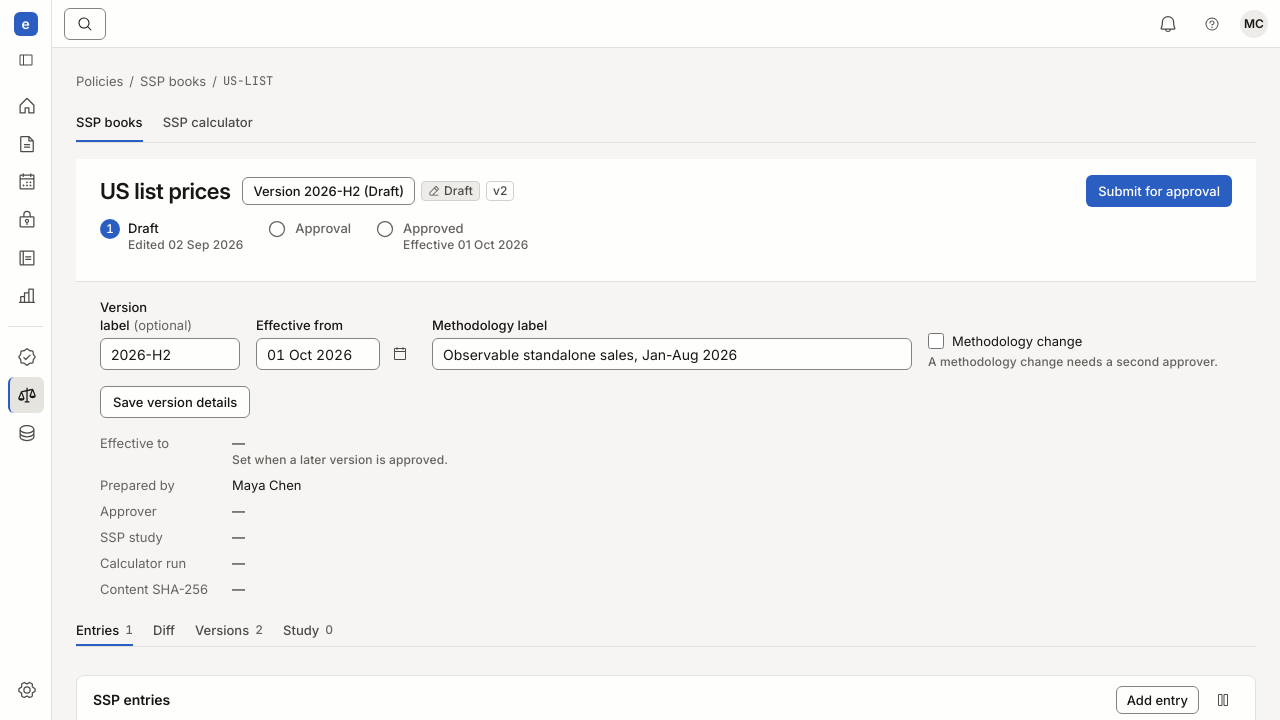
Test: SF-13:ssp-book-version series basis and quantity unit (D-97 (3)/(3a)) › a series product has no default basis: Save entry refuses at the Basis field and posts nothing
The image size is (1280, 720).
Click the button "Add entry" at {"x": 1157, "y": 700}, box [1116,686,1199,714]
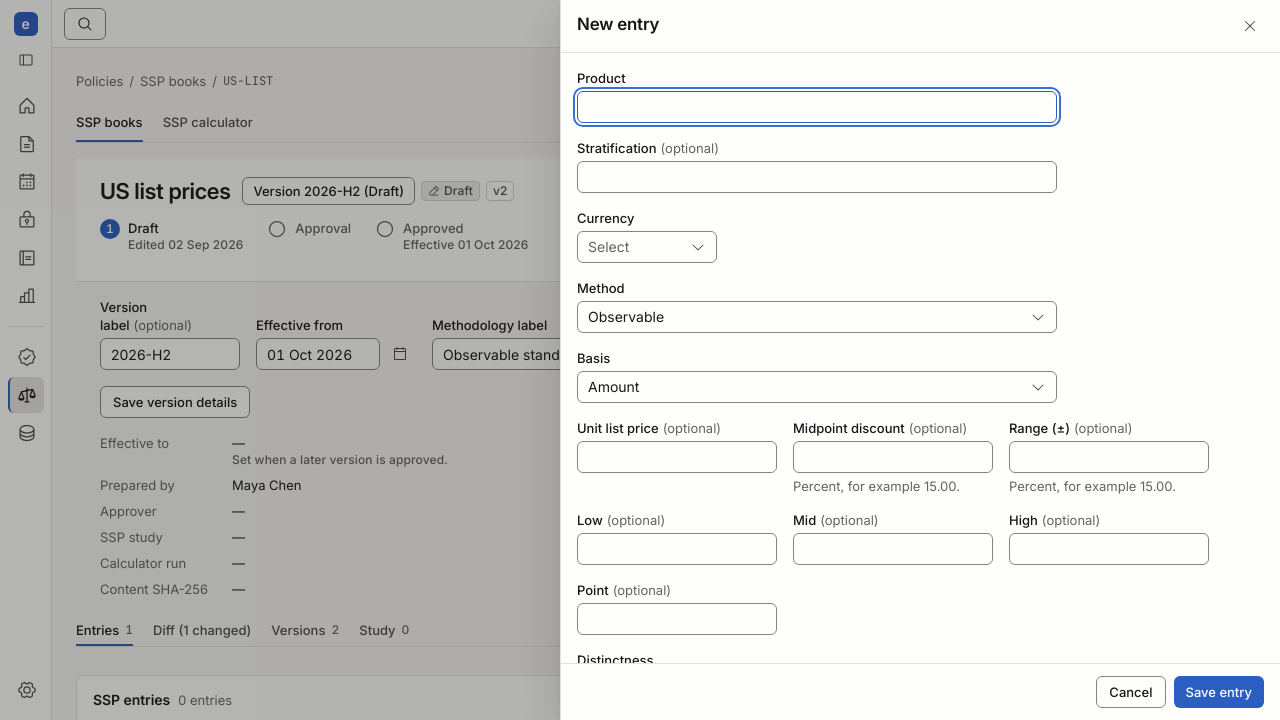
Type "AVM-SERIES-12" into the dropdown labelled "Product" at {"x": 817, "y": 107}, box [577,91,1057,123]
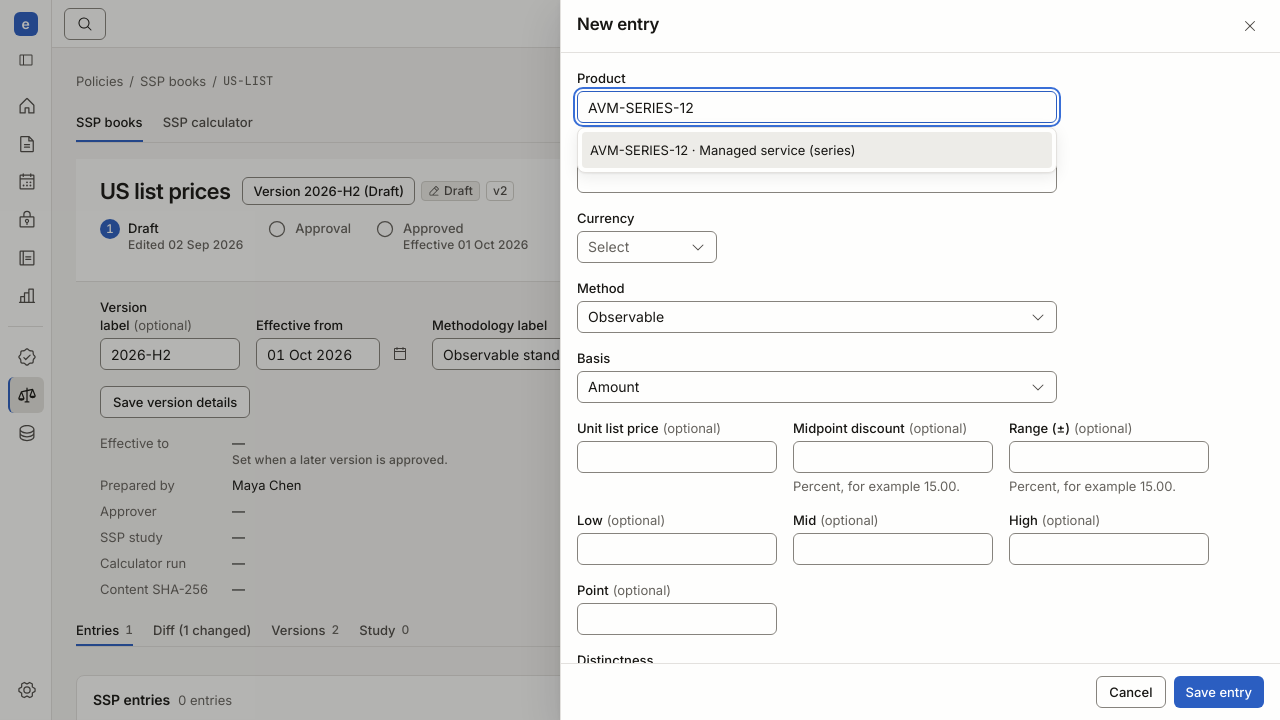
Press ArrowDown in the dropdown labelled "Product", box [577,91,1057,123]
Press Enter in the dropdown labelled "Product", box [577,91,1057,123]
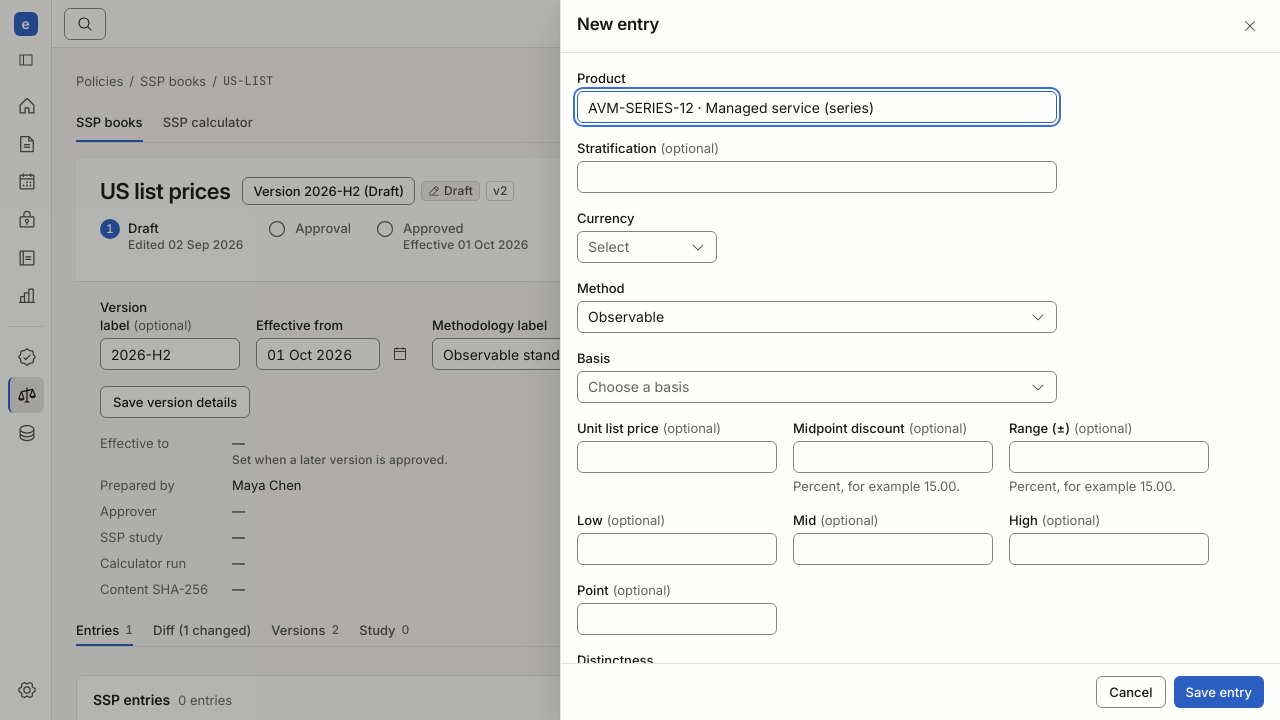
Check: the dropdown labelled "basis" reads "Choose a basis", box [577,371,1057,403]
Click the button "Save entry" at {"x": 1219, "y": 692}, box [1174,676,1264,708]
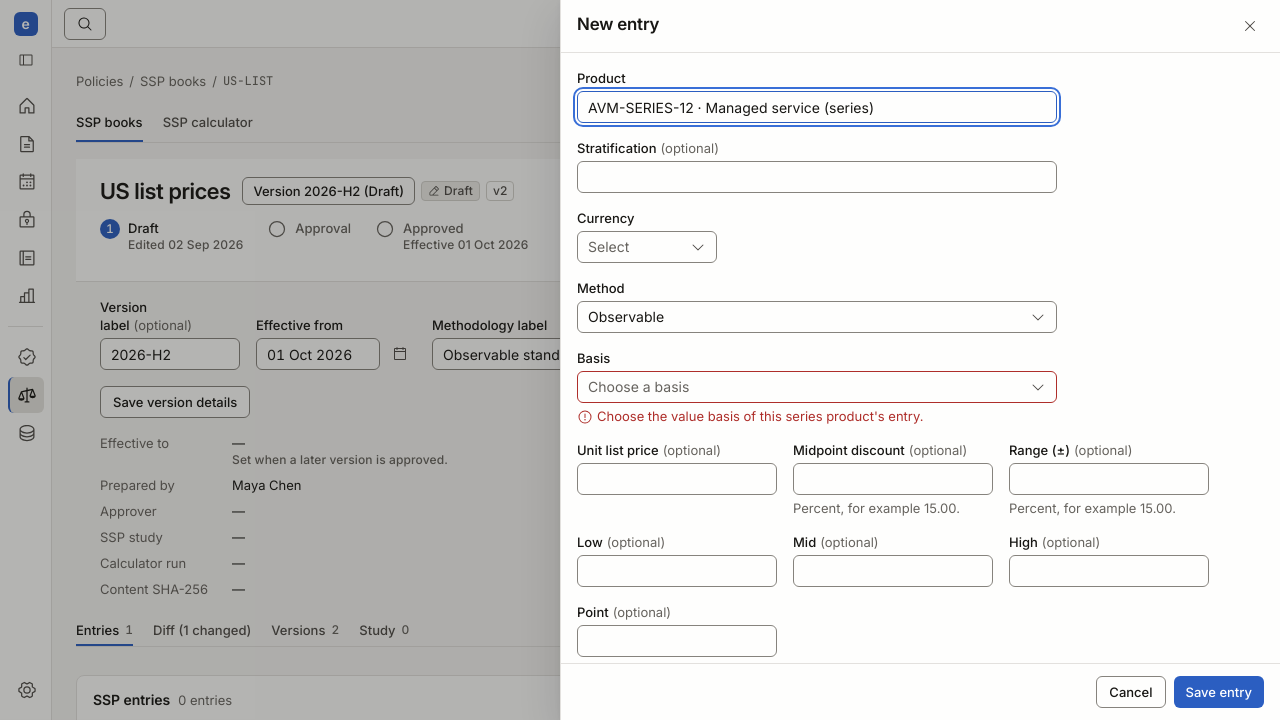
Check: the text "Choose the value basis of this series product's entry." is shown, box [577,408,923,425]
